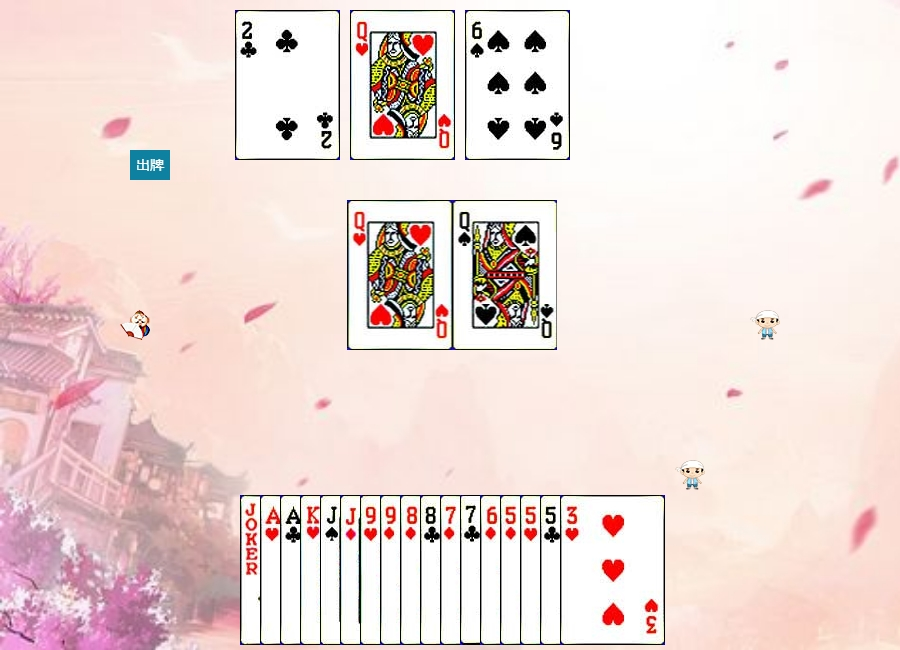11~1: (340, 495, 445, 645)
11~4: (320, 495, 425, 645)
12~3: (350, 10, 455, 160), (348, 200, 453, 350)
12~4: (453, 200, 558, 350)
13~3: (300, 495, 405, 645)
14~2: (280, 495, 385, 645)
14~3: (260, 495, 365, 645)
15~2: (235, 10, 340, 160)
18~4: (240, 495, 345, 645)
3~3: (560, 495, 665, 645)
5~1: (500, 495, 605, 645)
5~2: (540, 495, 645, 645)
5~3: (520, 495, 625, 645)
6~1: (480, 495, 585, 645)
6~4: (465, 10, 570, 160)
7~1: (440, 495, 545, 645)
7~2: (460, 495, 565, 645)
8~1: (400, 495, 505, 645)
8~2: (420, 495, 525, 645)
9~1: (380, 495, 485, 645)
9~3: (360, 495, 465, 645)
